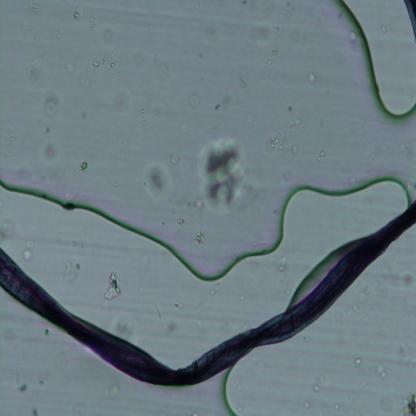Air bubble: (0, 177, 411, 282), (338, 0, 415, 121), (220, 364, 259, 416)
Background material: (196, 137, 254, 213), (141, 160, 175, 204), (244, 22, 280, 62), (110, 300, 148, 336), (35, 132, 62, 168), (14, 364, 36, 396), (93, 48, 126, 68), (269, 131, 292, 159), (100, 273, 124, 299), (26, 58, 46, 87), (38, 87, 60, 113), (0, 213, 19, 242), (64, 260, 80, 285), (23, 236, 39, 261), (273, 254, 289, 277), (309, 372, 325, 394), (401, 390, 416, 413), (136, 102, 147, 132), (171, 296, 185, 317), (105, 384, 121, 402), (346, 352, 366, 366), (118, 87, 130, 110), (193, 227, 206, 248), (168, 316, 182, 335), (287, 116, 302, 133), (237, 75, 249, 95), (78, 74, 91, 92), (169, 148, 181, 165), (375, 367, 387, 382), (190, 95, 201, 110), (306, 70, 316, 86), (316, 148, 327, 162), (76, 161, 88, 172), (304, 397, 314, 410), (180, 124, 190, 136), (70, 10, 80, 22), (31, 3, 40, 14)
Cotton: (0, 200, 416, 386), (402, 0, 416, 40)
